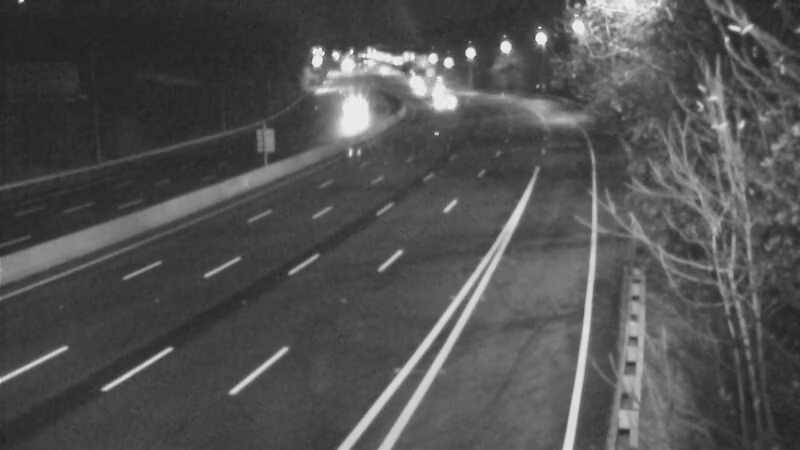vehicle: (388, 56, 438, 106), (395, 66, 445, 116), (412, 63, 462, 113), (424, 84, 474, 134), (332, 84, 382, 134)
